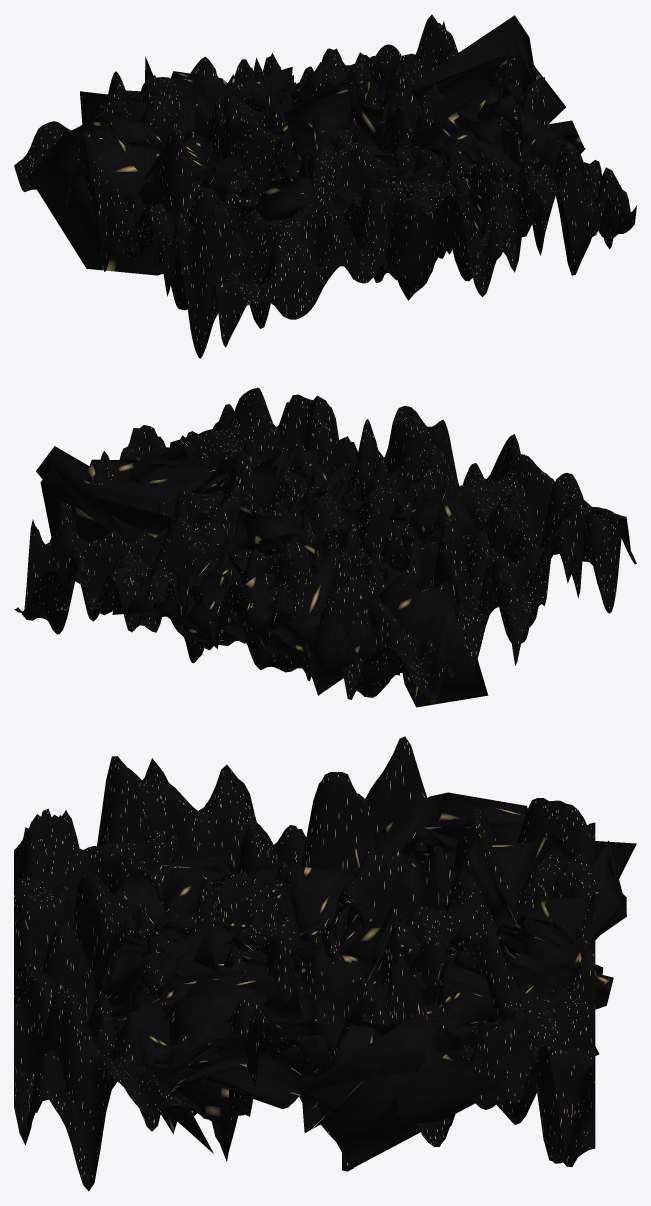
File: background_dist_sharpdip.obj
The picture shows the model from 3 angles, top to bottom: view 1: azimuth 30°, elevation 25°; view 2: azimuth 150°, elevation 25°; view 3: azimuth 270°, elevation 25°; orthographic projection. The views are drawn at different scales.
Bounding box in the file's own units: 2.56 × 0.8719 × 2.14.
Materials: 1 (1 with a texture image).
